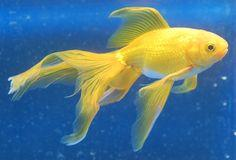goldfish: (114, 22, 231, 86)
